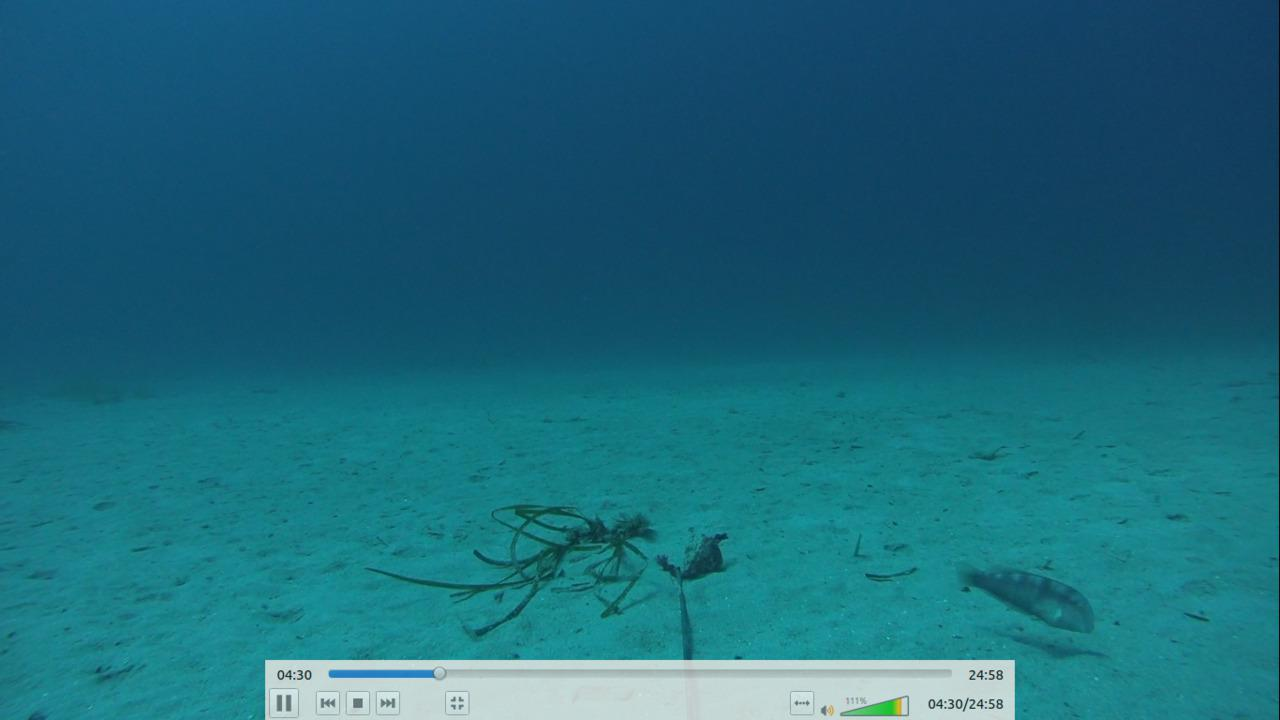raor: (951, 555, 1097, 638)
